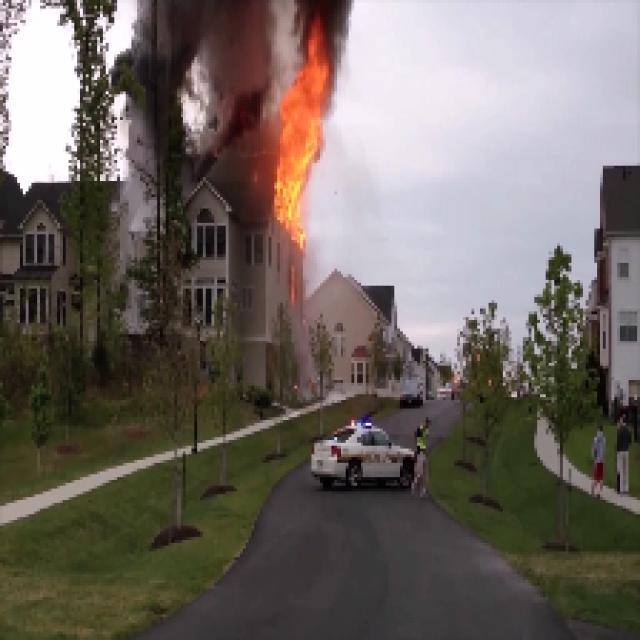Fire: (265, 52, 324, 225)
Smoke: (144, 6, 258, 123)
